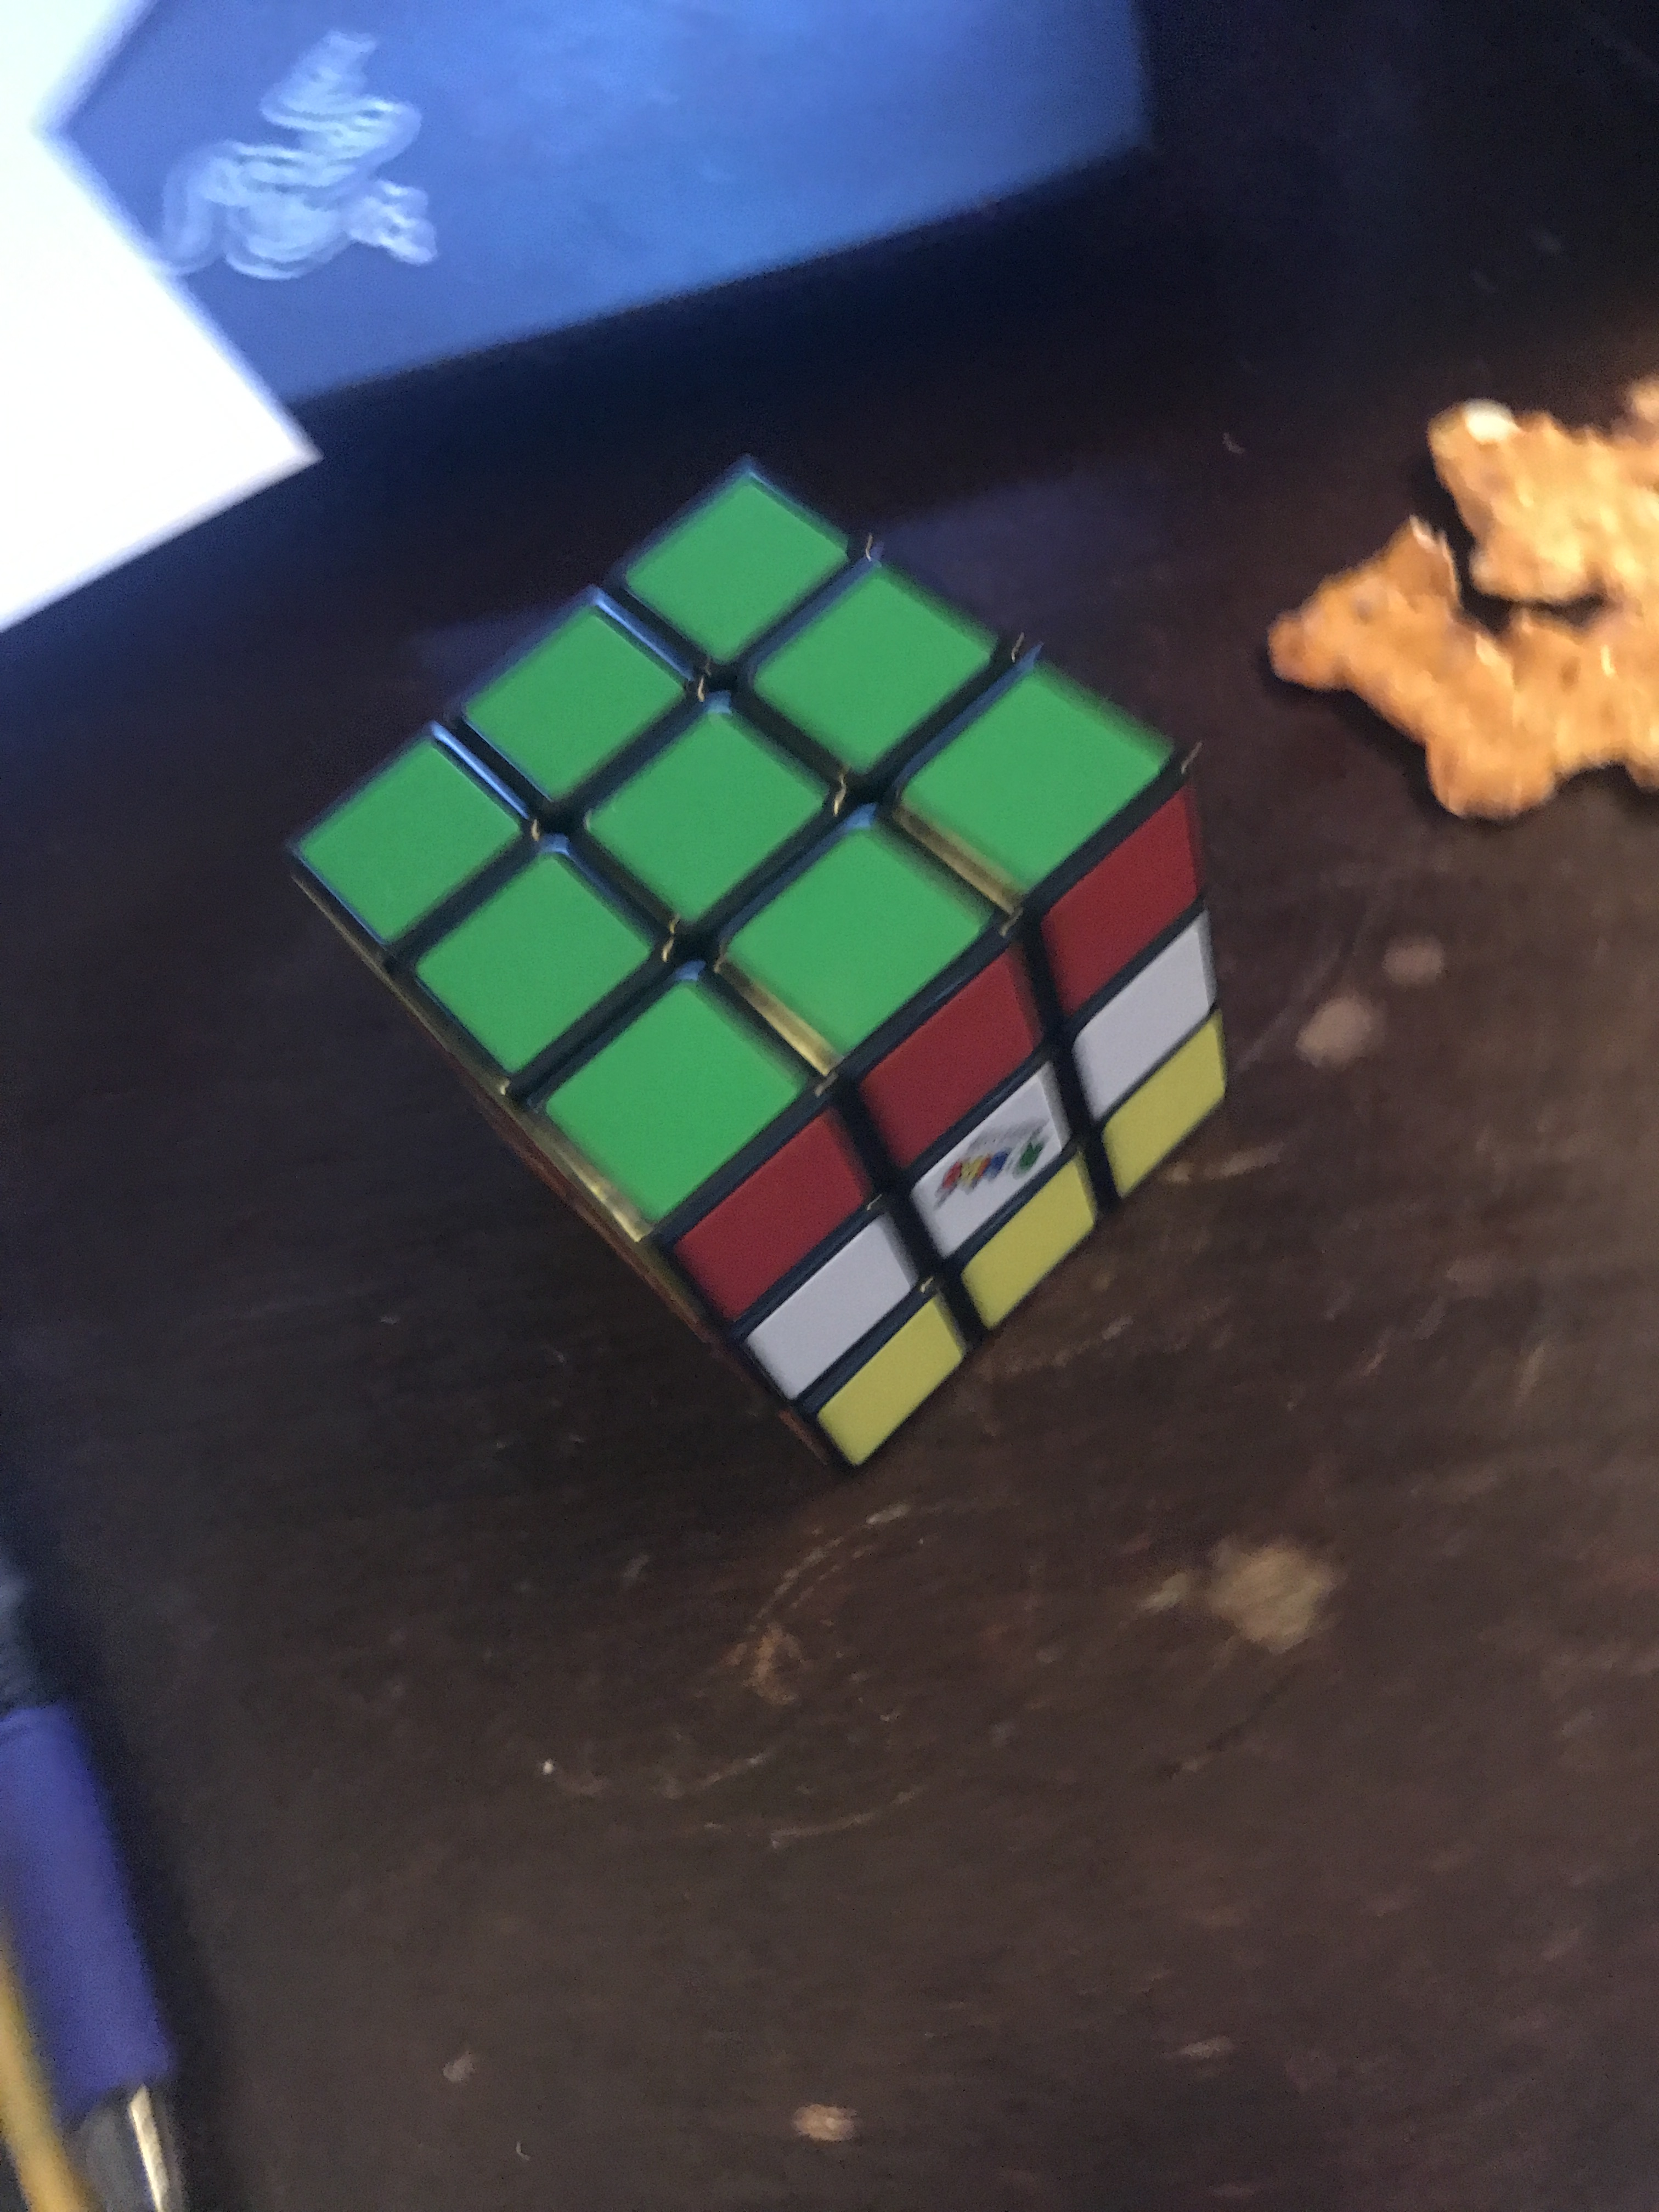rubiks: (286, 455, 1237, 1480)
